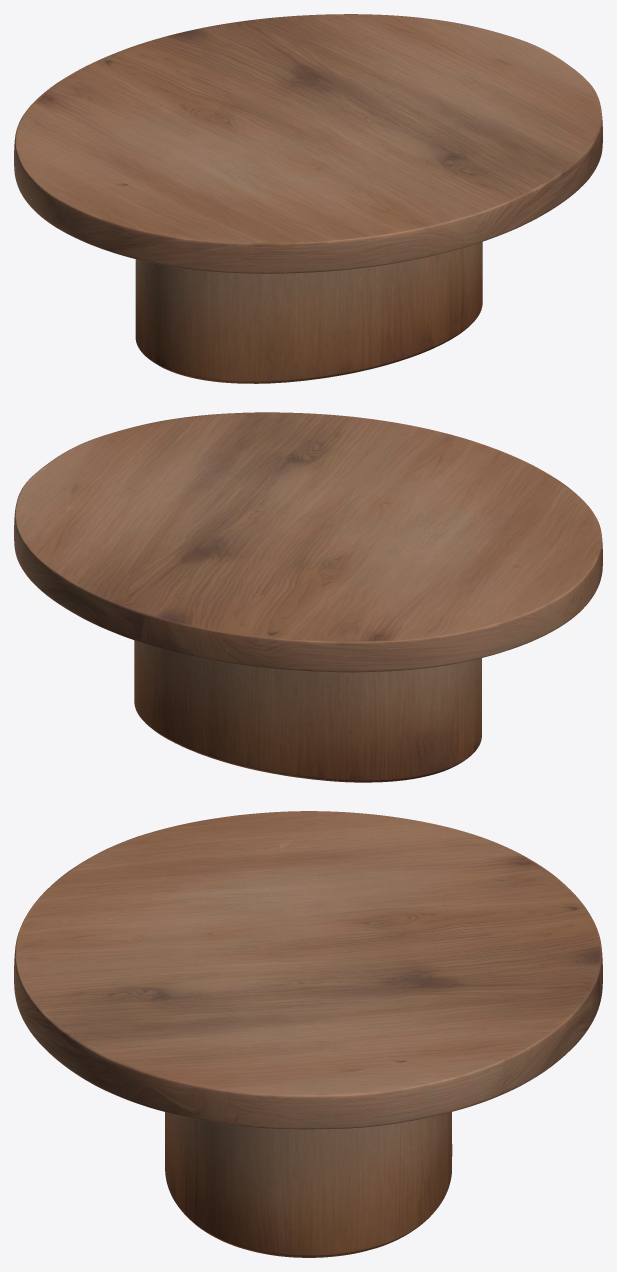
Rendered from alt_ctable_walnut.glb.
3 views of the same model, one above another, from view 1: azimuth 30°, elevation 25°; view 2: azimuth 150°, elevation 25°; view 3: azimuth 270°, elevation 25° (orthographic). The views are drawn at different scales.
Visible parts, largest first — view 1: node_0; view 2: node_0; view 3: node_0.
Part boxes in pixels (x1=…): node_0: x1=14, y1=14, x2=602, y2=383; node_0: x1=14, y1=412, x2=602, y2=782; node_0: x1=14, y1=811, x2=602, y2=1257.
Bounding box in the file's own units: 1.13 × 0.4066 × 0.9846.
Materials: 1 (1 with a texture image).
